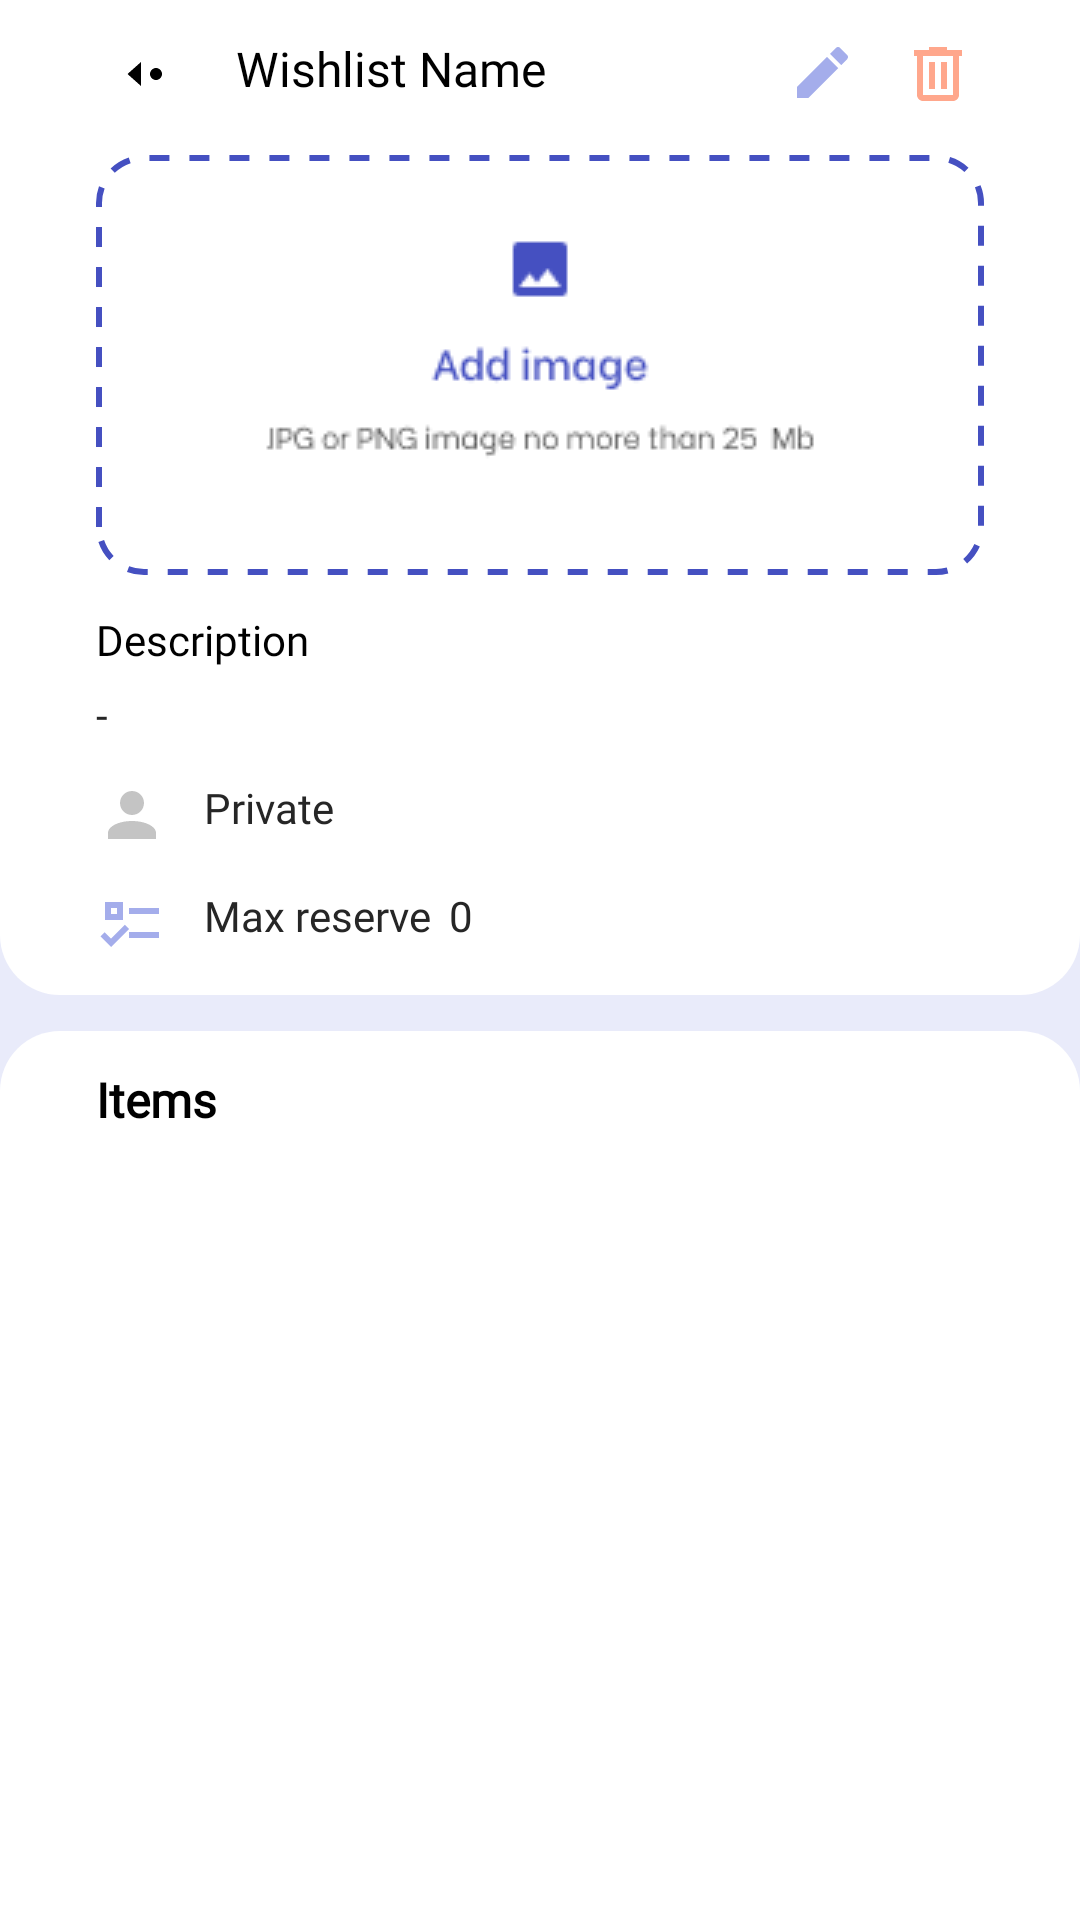

Point at icon controls on the screen. Image size 1080 × 1920, points as [x,y].
booking: [130,924]
delete: [938,74]
edit: [822,72]
